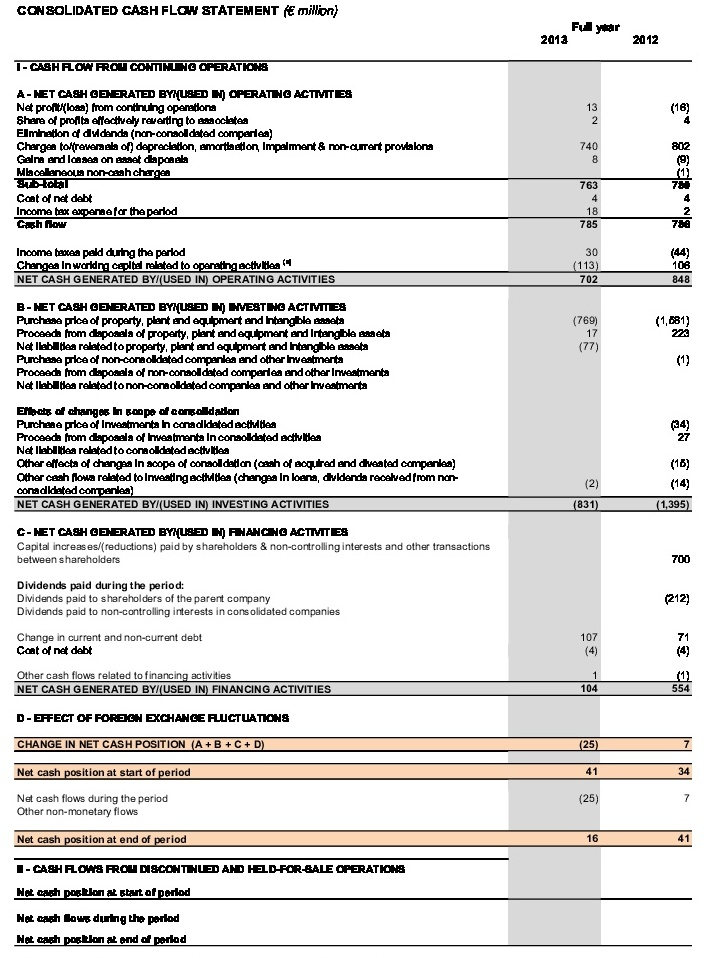table: (0, 0, 720, 958)
